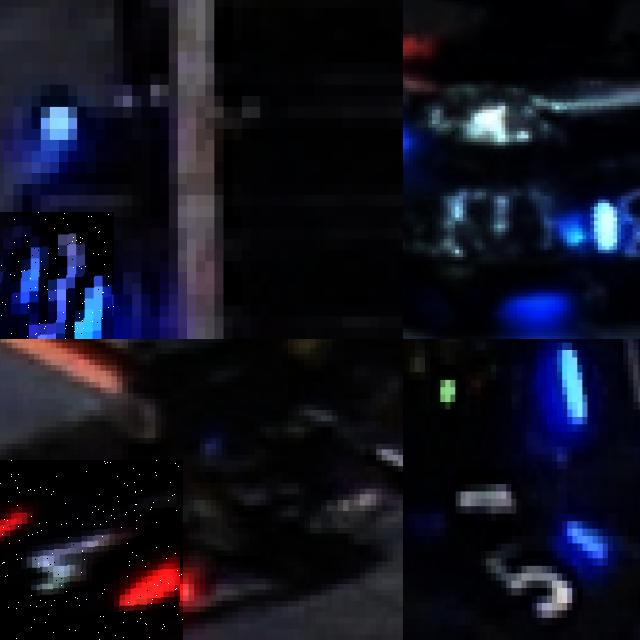B3: (0, 211, 114, 339)
Bs: (597, 184, 640, 253)
R4: (0, 460, 183, 640)
